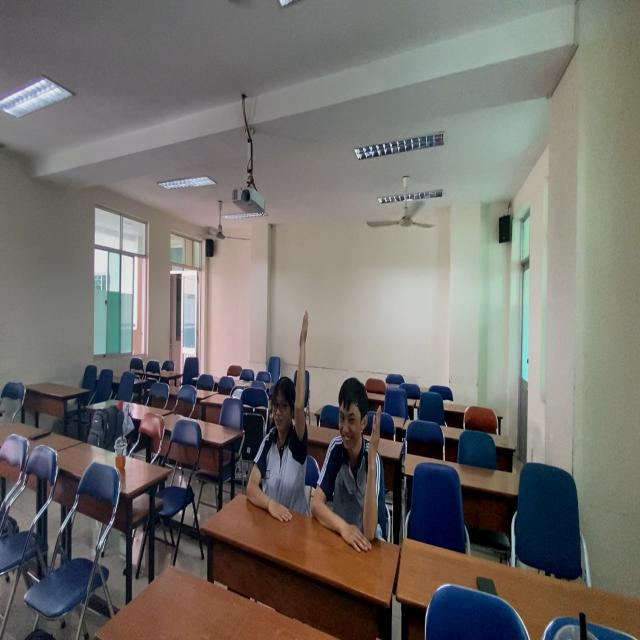raise_hand: (243, 311, 312, 530), (310, 373, 386, 559)
